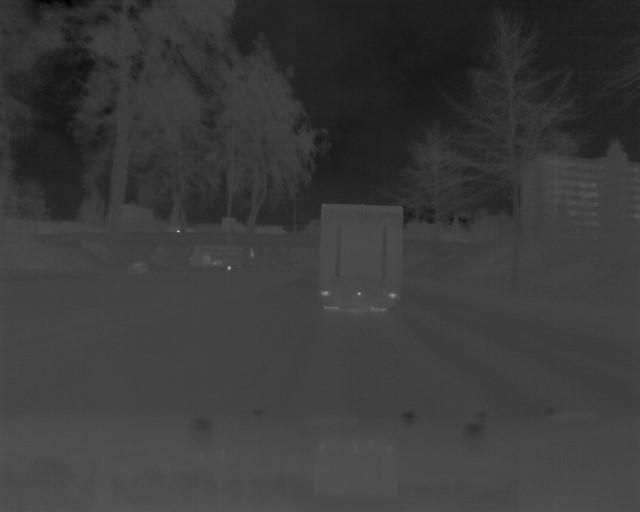car: (317, 201, 404, 327)
